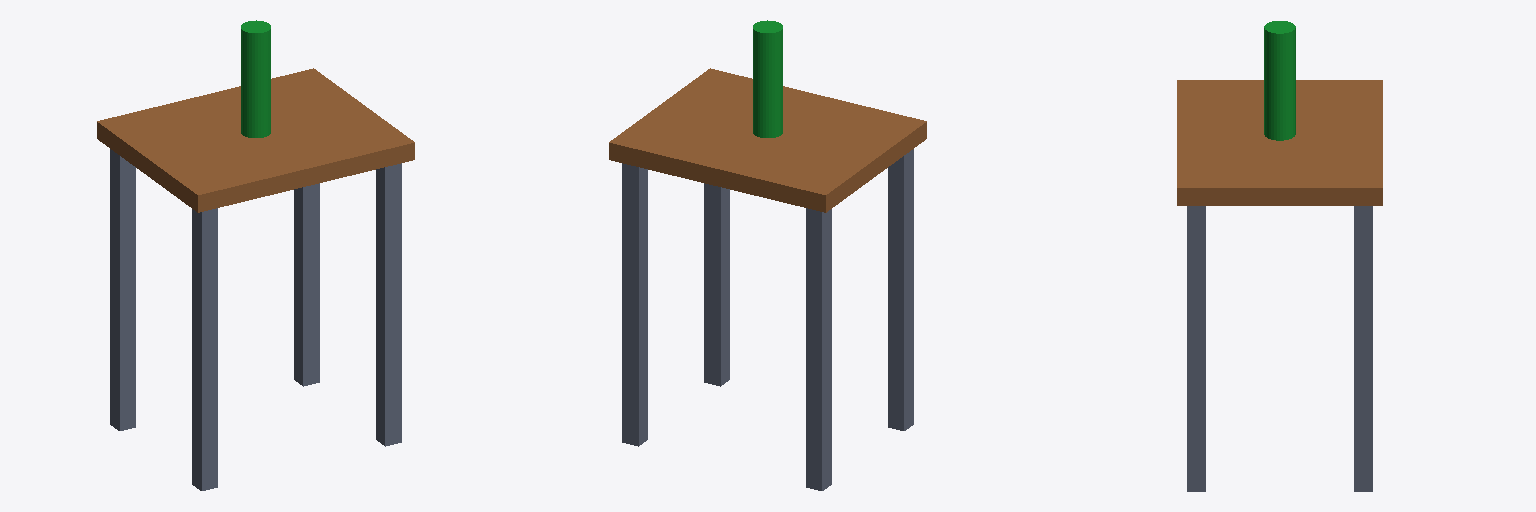
The robot description file, URDF, robot "table_and_bottle":
<?xml version="1.0"?>
<robot name="table_and_bottle">
  <material name="table_wood"><color rgba="0.63 0.43 0.26 1.0"/></material>
  <material name="table_leg_steel"><color rgba="0.45 0.48 0.55 1.0"/></material>
  <material name="bottle_clear"><color rgba="0.13 0.62 0.24 0.85"/></material>
  <material name="bottle_cap"><color rgba="0.86 0.87 0.90 1.0"/></material>

  <link name="table_top">
    <visual>
      <origin xyz="0 0 0" rpy="0 0 0"/>
      <geometry><box size="0.52 0.42 0.04"/></geometry>
      <material name="table_wood"/>
    </visual>
    <collision>
      <origin xyz="0 0 0" rpy="0 0 0"/>
      <geometry><box size="0.52 0.42 0.04"/></geometry>
    </collision>
    <inertial>
      <origin xyz="0 0 0" rpy="0 0 0"/>
      <mass value="3.0"/>
      <inertia ixx="0.08" ixy="0" ixz="0" iyy="0.09" iyz="0" izz="0.15"/>
    </inertial>
  </link>

  <link name="table_leg_1">
    <visual><origin xyz="0 0 -0.33" rpy="0 0 0"/><geometry><box size="0.04 0.04 0.66"/></geometry><material name="table_leg_steel"/></visual>
    <collision><origin xyz="0 0 -0.33" rpy="0 0 0"/><geometry><box size="0.04 0.04 0.66"/></geometry></collision>
    <inertial><origin xyz="0 0 -0.33" rpy="0 0 0"/><mass value="0.7"/><inertia ixx="0.01" ixy="0" ixz="0" iyy="0.01" iyz="0" izz="0.001"/></inertial>
  </link>

  <link name="table_leg_2">
    <visual><origin xyz="0 0 -0.33" rpy="0 0 0"/><geometry><box size="0.04 0.04 0.66"/></geometry><material name="table_leg_steel"/></visual>
    <collision><origin xyz="0 0 -0.33" rpy="0 0 0"/><geometry><box size="0.04 0.04 0.66"/></geometry></collision>
    <inertial><origin xyz="0 0 -0.33" rpy="0 0 0"/><mass value="0.7"/><inertia ixx="0.01" ixy="0" ixz="0" iyy="0.01" iyz="0" izz="0.001"/></inertial>
  </link>

  <link name="table_leg_3">
    <visual><origin xyz="0 0 -0.33" rpy="0 0 0"/><geometry><box size="0.04 0.04 0.66"/></geometry><material name="table_leg_steel"/></visual>
    <collision><origin xyz="0 0 -0.33" rpy="0 0 0"/><geometry><box size="0.04 0.04 0.66"/></geometry></collision>
    <inertial><origin xyz="0 0 -0.33" rpy="0 0 0"/><mass value="0.7"/><inertia ixx="0.01" ixy="0" ixz="0" iyy="0.01" iyz="0" izz="0.001"/></inertial>
  </link>

  <link name="table_leg_4">
    <visual><origin xyz="0 0 -0.33" rpy="0 0 0"/><geometry><box size="0.04 0.04 0.66"/></geometry><material name="table_leg_steel"/></visual>
    <collision><origin xyz="0 0 -0.33" rpy="0 0 0"/><geometry><box size="0.04 0.04 0.66"/></geometry></collision>
    <inertial><origin xyz="0 0 -0.33" rpy="0 0 0"/><mass value="0.7"/><inertia ixx="0.01" ixy="0" ixz="0" iyy="0.01" iyz="0" izz="0.001"/></inertial>
  </link>

  <joint name="top_to_leg1" type="fixed"><parent link="table_top"/><child link="table_leg_1"/><origin xyz="0.22 0.17 -0.01" rpy="0 0 0"/></joint>
  <joint name="top_to_leg2" type="fixed"><parent link="table_top"/><child link="table_leg_2"/><origin xyz="0.22 -0.17 -0.01" rpy="0 0 0"/></joint>
  <joint name="top_to_leg3" type="fixed"><parent link="table_top"/><child link="table_leg_3"/><origin xyz="-0.22 0.17 -0.01" rpy="0 0 0"/></joint>
  <joint name="top_to_leg4" type="fixed"><parent link="table_top"/><child link="table_leg_4"/><origin xyz="-0.22 -0.17 -0.01" rpy="0 0 0"/></joint>

  <link name="coke_bottle">
    <visual>
      <origin xyz="0 0 0.12" rpy="0 0 0"/>
      <geometry><cylinder radius="0.032" length="0.24"/></geometry>
      <material name="bottle_clear"/>
    </visual>
    <visual>
      <origin xyz="0 0 0.18" rpy="0 0 0"/>
      <geometry><cylinder radius="0.010" length="0.035"/></geometry>
      <material name="bottle_cap"/>
    </visual>
    <collision>
      <origin xyz="0 0 0.12" rpy="0 0 0"/>
      <geometry><cylinder radius="0.032" length="0.24"/></geometry>
    </collision>
    <inertial>
      <origin xyz="0 0 0.12" rpy="0 0 0"/>
      <mass value="0.33"/>
      <inertia ixx="0.00042" ixy="0" ixz="0" iyy="0.00042" iyz="0" izz="0.00017"/>
    </inertial>
  </link>

  <joint name="top_to_bottle" type="fixed">
    <parent link="table_top"/>
    <child link="coke_bottle"/>
    <origin xyz="0 0 0.02" rpy="0 0 0"/>
  </joint>

  <gazebo reference="table_top">
    <material>Gazebo/Wood</material>
    <mu1>0.8</mu1>
    <mu2>0.8</mu2>
  </gazebo>
  <gazebo reference="table_leg_1"><material>Gazebo/Grey</material></gazebo>
  <gazebo reference="table_leg_2"><material>Gazebo/Grey</material></gazebo>
  <gazebo reference="table_leg_3"><material>Gazebo/Grey</material></gazebo>
  <gazebo reference="table_leg_4"><material>Gazebo/Grey</material></gazebo>
  <gazebo reference="coke_bottle">
    <material>Gazebo/Green</material>
    <mu1>0.7</mu1>
    <mu2>0.7</mu2>
  </gazebo>
  <gazebo>
    <static>true</static>
  </gazebo>
</robot>

--- Facts derived from the render (not from the file) ---
3 views of the same robot in one strip: view 1: azimuth 30°, elevation 25°; view 2: azimuth 150°, elevation 25°; view 3: azimuth 270°, elevation 25° (orthographic).
Model table_and_bottle with 6 links and 5 joints (5 fixed), rooted at table_top, posed every joint at zero.
Links seen in each view (by area): view 1: table_top, table_leg_4, table_leg_2, table_leg_3, table_leg_1, coke_bottle; view 2: table_top, table_leg_3, table_leg_1, table_leg_4, table_leg_2, coke_bottle; view 3: table_top, table_leg_1, table_leg_2, coke_bottle.
Link boxes in pixels (left/top/right/bottom): table_top: left=97, top=68, right=414, bottom=212; table_leg_4: left=192, top=208, right=217, bottom=490; table_leg_2: left=376, top=163, right=401, bottom=446; table_leg_3: left=110, top=149, right=135, bottom=430; table_leg_1: left=294, top=183, right=319, bottom=386; coke_bottle: left=241, top=20, right=270, bottom=137; table_top: left=609, top=68, right=926, bottom=212; table_leg_3: left=806, top=208, right=831, bottom=490; table_leg_1: left=622, top=163, right=647, bottom=446; table_leg_4: left=888, top=149, right=913, bottom=430; table_leg_2: left=704, top=183, right=729, bottom=386; coke_bottle: left=753, top=20, right=782, bottom=137; table_top: left=1177, top=80, right=1382, bottom=205; table_leg_1: left=1354, top=206, right=1372, bottom=491; table_leg_2: left=1187, top=206, right=1205, bottom=491; coke_bottle: left=1264, top=21, right=1295, bottom=140.
Size in the robot's own frame: 0.52 by 0.42 by 0.93 metres.
Geometry: primitives only (box / cylinder / sphere), no mesh files.
